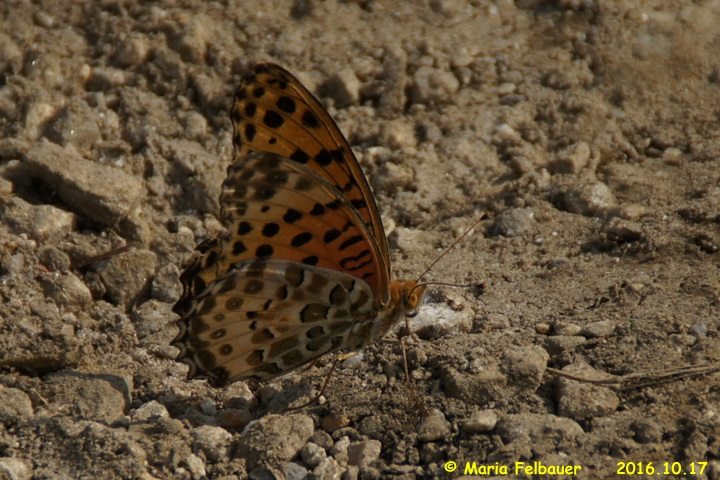Argyreus hyperbius: (166, 55, 481, 415)
butterfly: (168, 57, 483, 417)
